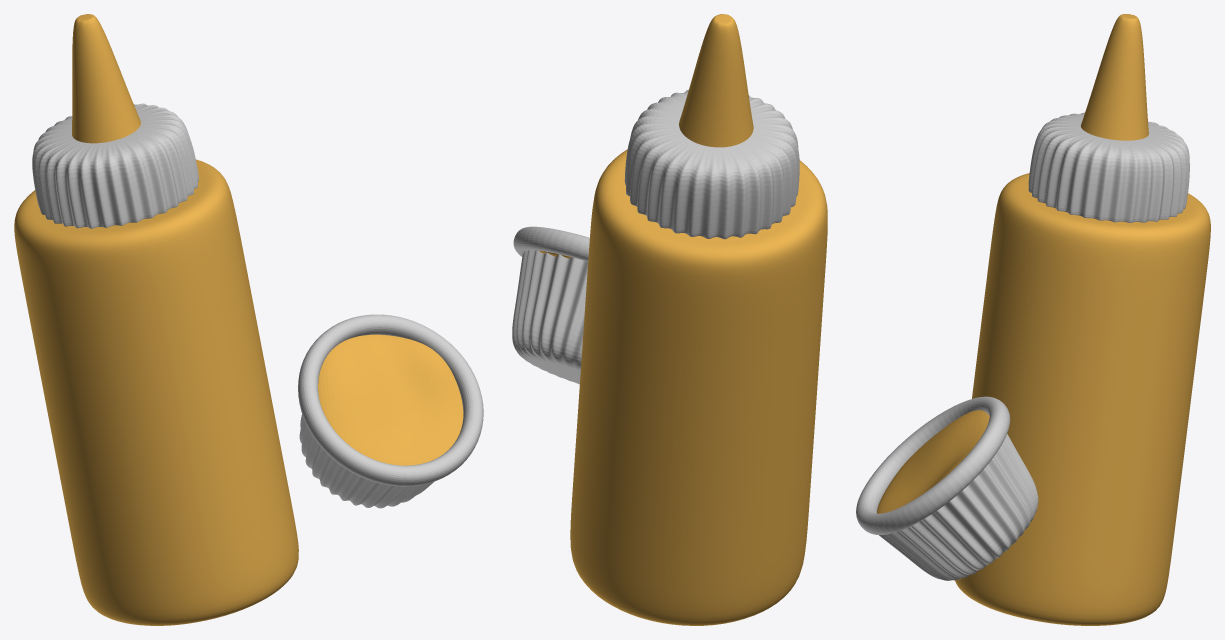
The model's file is Mustard.fbx.
The picture shows the model from 3 angles, left to right: view 1: azimuth 30°, elevation 25°; view 2: azimuth 150°, elevation 25°; view 3: azimuth 270°, elevation 25°; orthographic projection. The views are drawn at different scales.
Visible parts, largest first — view 1: sauce_bottle.001_Circle.132, sauce.001_Circle.140, bottle2.001_Circle.133, sauce_cup.001_Circle.139; view 2: sauce_bottle.001_Circle.132, bottle2.001_Circle.133, sauce_cup.001_Circle.139; view 3: sauce_bottle.001_Circle.132, sauce_cup.001_Circle.139, bottle2.001_Circle.133, sauce.001_Circle.140.
Boxes of the visible parts, left/top/right/bottom form: sauce_bottle.001_Circle.132: left=14, top=14, right=298, bottom=625; sauce.001_Circle.140: left=318, top=334, right=463, bottom=465; bottle2.001_Circle.133: left=32, top=103, right=198, bottom=228; sauce_cup.001_Circle.139: left=298, top=314, right=483, bottom=508; sauce_bottle.001_Circle.132: left=570, top=14, right=827, bottom=625; bottle2.001_Circle.133: left=624, top=89, right=799, bottom=239; sauce_cup.001_Circle.139: left=512, top=226, right=589, bottom=384; sauce_bottle.001_Circle.132: left=954, top=14, right=1210, bottom=625; sauce_cup.001_Circle.139: left=856, top=396, right=1038, bottom=580; bottle2.001_Circle.133: left=1028, top=112, right=1189, bottom=222; sauce.001_Circle.140: left=877, top=410, right=989, bottom=513.
Bounding box in the file's own units: 130 × 200 × 114.
